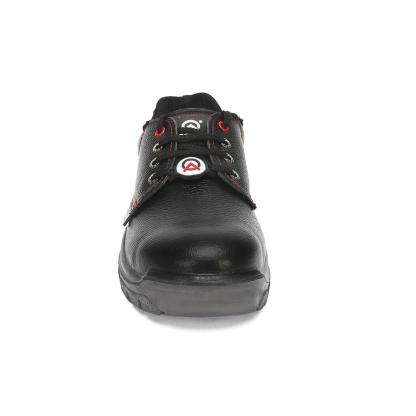bota: (113, 87, 277, 325)
